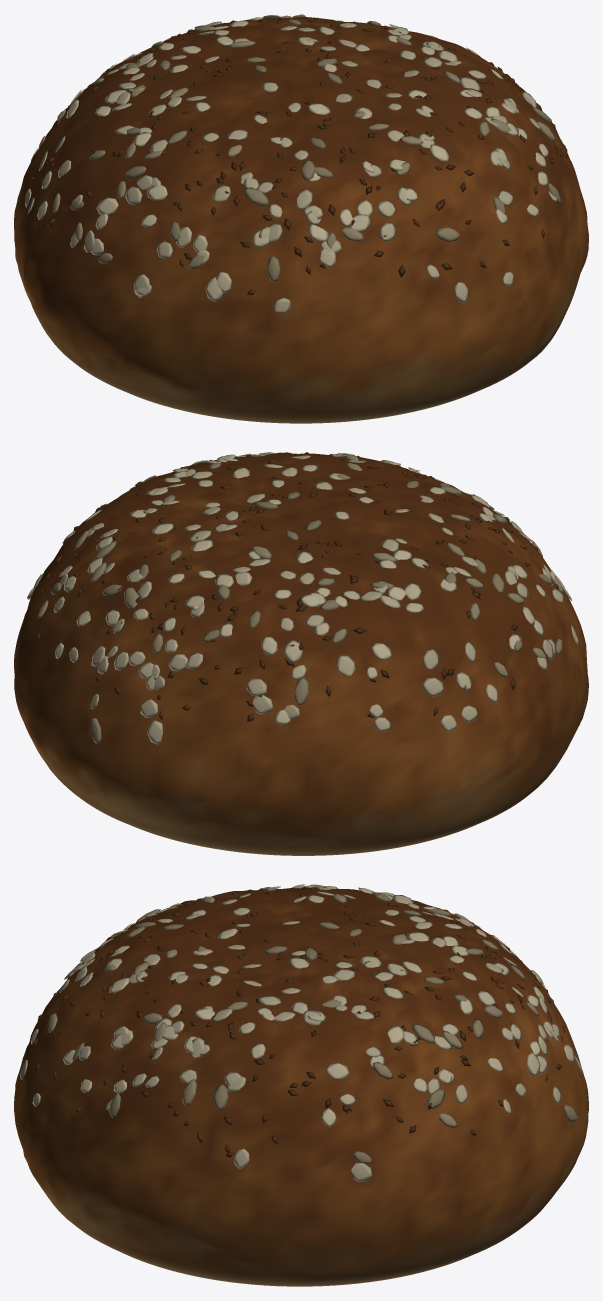
File: sommerkorn-750g.glb
The picture shows the model from 3 angles, top to bottom: view 1: azimuth 30°, elevation 25°; view 2: azimuth 150°, elevation 25°; view 3: azimuth 270°, elevation 25°; orthographic projection.
Parts seen in each view (by area): view 1: sommerkorn-750g; view 2: sommerkorn-750g; view 3: sommerkorn-750g.
Boxes of the visible parts, x1,y1,x2,y2 form: sommerkorn-750g: [14, 14, 588, 423]; sommerkorn-750g: [14, 452, 588, 855]; sommerkorn-750g: [14, 884, 588, 1286].
Bounding box in the file's own units: 0.206 × 0.0984 × 0.206.
